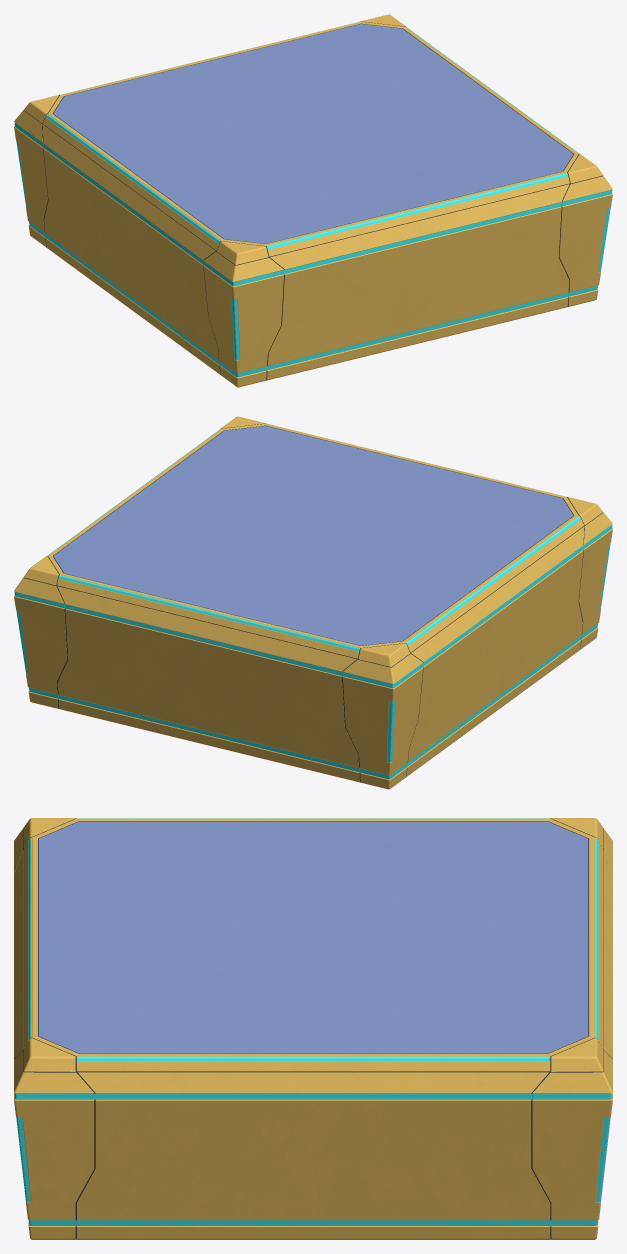
File: PlatformE.fbx
3 renders of one model, top to bottom at view 1: azimuth 30°, elevation 25°; view 2: azimuth 150°, elevation 25°; view 3: azimuth 270°, elevation 25°, orthographic. The views are drawn at different scales.
Visible parts, largest first — view 1: SM_VA_PlatformE.mo; view 2: SM_VA_PlatformE.mo; view 3: SM_VA_PlatformE.mo.
Part boxes in pixels (x1,y1,x2,y2): SM_VA_PlatformE.mo: (14,14,612,387); SM_VA_PlatformE.mo: (14,416,612,789); SM_VA_PlatformE.mo: (14,818,612,1239).
Bounding box in the file's own units: 37 × 12.5 × 37.
